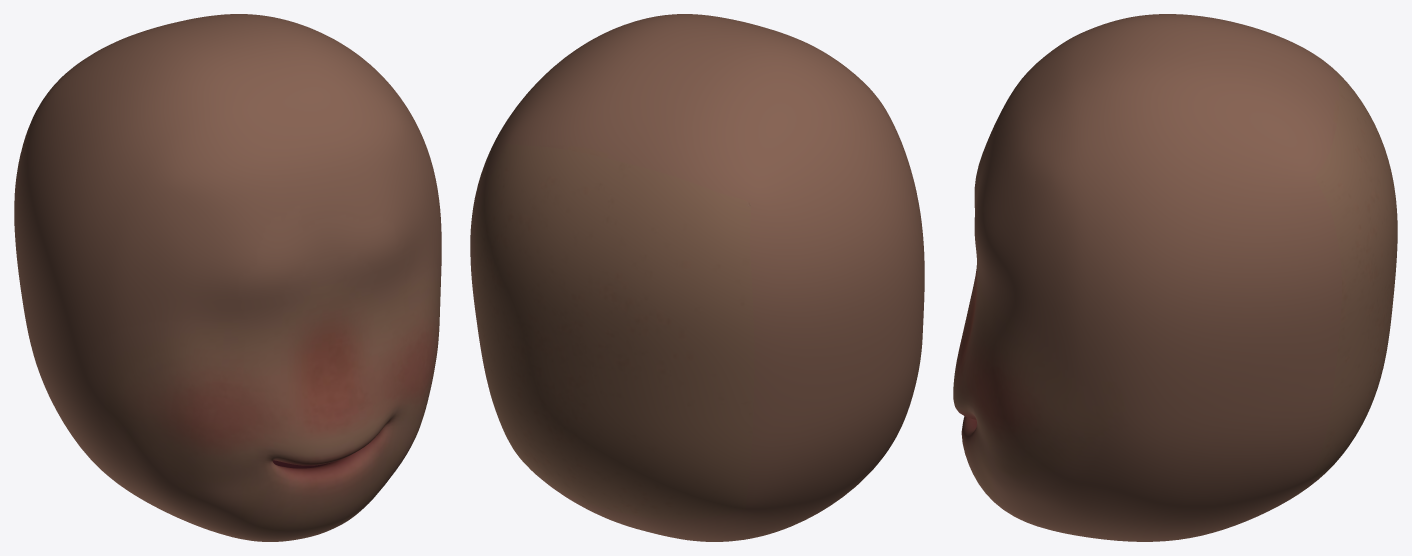
Rendered from head3.glb.
3 renders of one model, left to right at view 1: azimuth 30°, elevation 25°; view 2: azimuth 150°, elevation 25°; view 3: azimuth 270°, elevation 25°, orthographic. The views are drawn at different scales.
Parts seen in each view (by area): view 1: head.003; view 2: head.003; view 3: head.003.
Boxes of the visible parts, x1,y1,x2,y2 form: head.003: (14,14,441,541); head.003: (470,14,924,541); head.003: (953,14,1397,541).
Bounding box in the file's own units: 1.35 × 1.62 × 1.35.
1 material, 1 textured.
